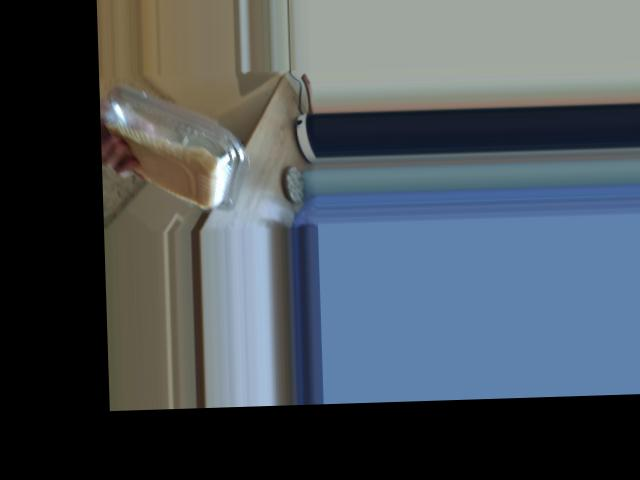cheese: (153, 103, 234, 196)
